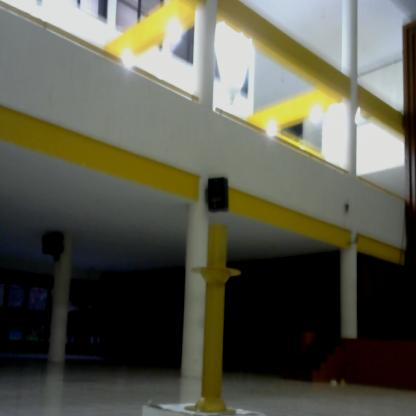pole: (179, 218, 248, 416)
